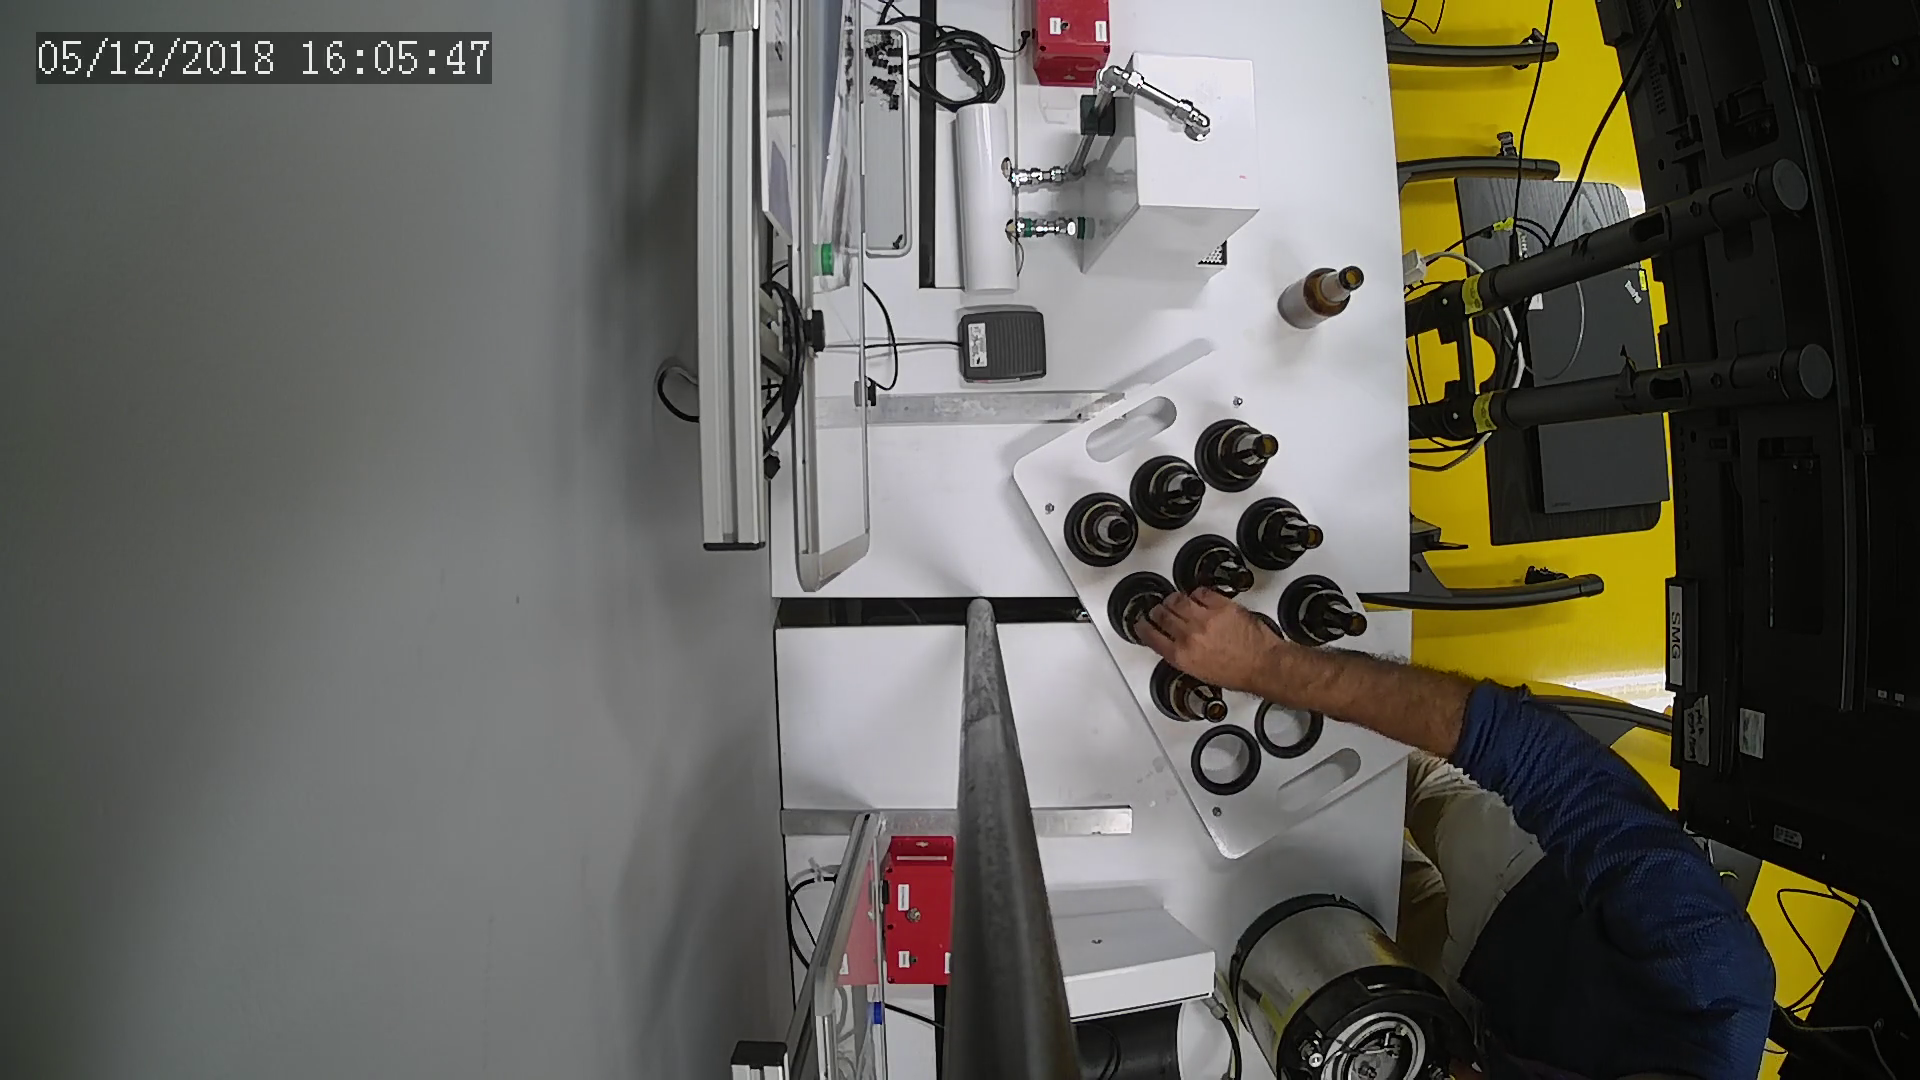filled_bottle: (1279, 570, 1371, 651), (1241, 497, 1328, 574), (1058, 491, 1141, 568), (1127, 455, 1212, 530), (1145, 663, 1237, 732), (1197, 419, 1283, 491), (1176, 531, 1253, 605), (1104, 574, 1178, 644)
trolley: (1011, 351, 1445, 866)
unfilled_bottle: (1276, 265, 1367, 332)
